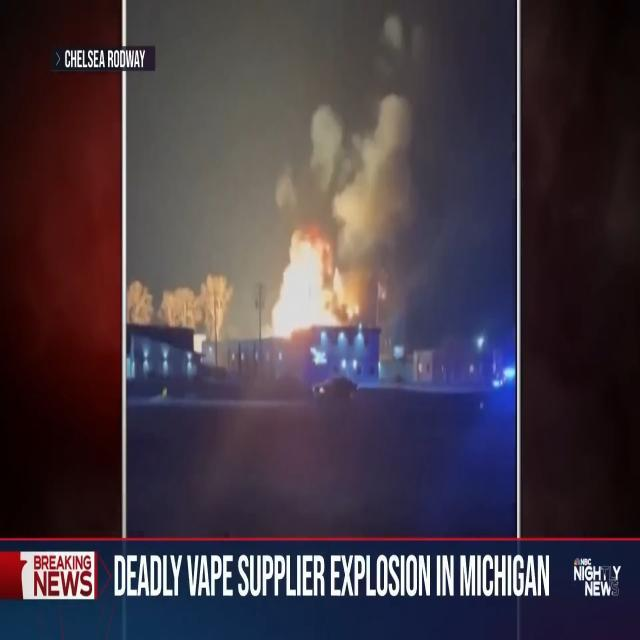fire: (236, 173, 419, 370)
